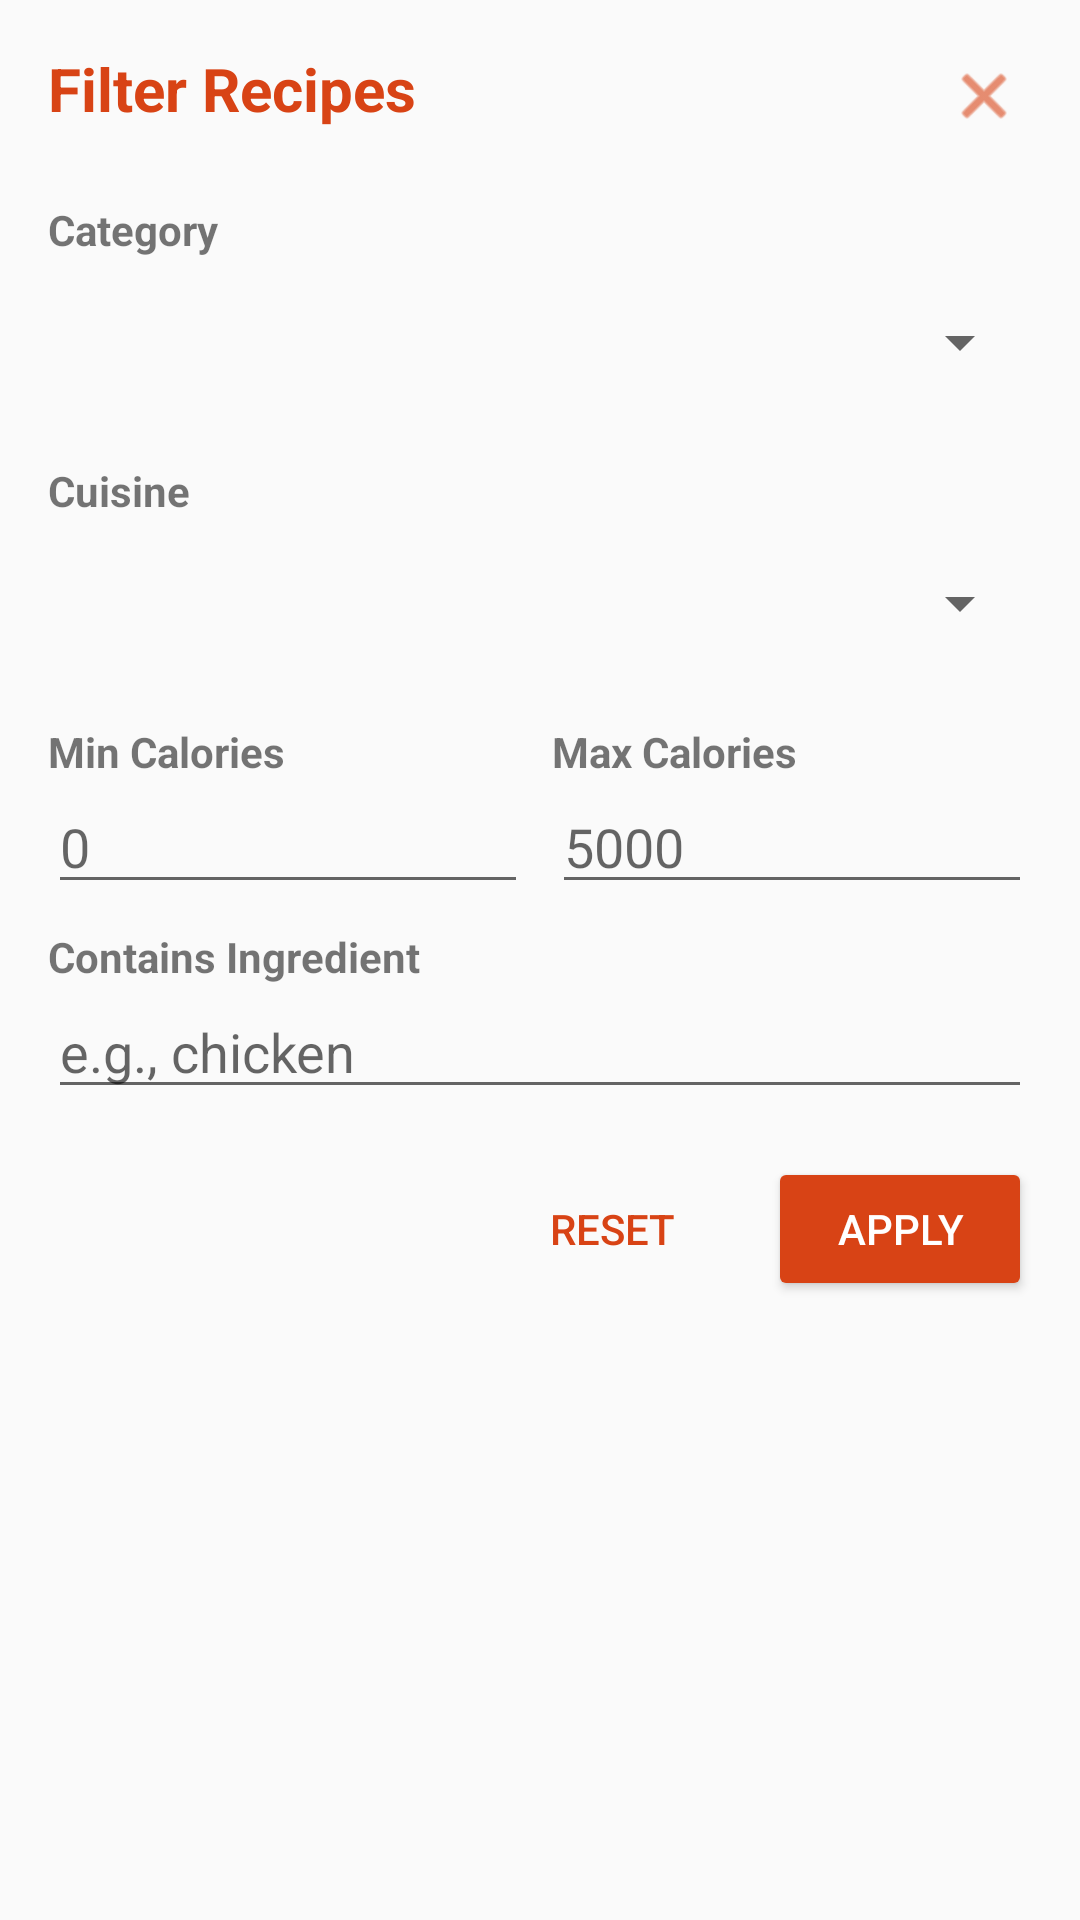

Icons on this 1080px x 1920px Android screen, each with the point to tap as [x,y]:
Close: [984,96]
